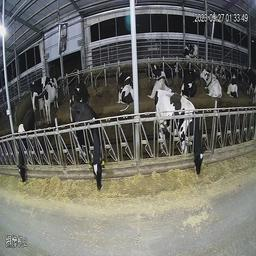cow: (155, 88, 207, 184), (70, 99, 108, 197), (14, 106, 44, 203), (142, 56, 172, 95), (115, 63, 136, 113), (201, 65, 227, 103), (42, 76, 62, 122), (30, 69, 52, 108), (70, 72, 96, 103), (180, 62, 199, 98), (225, 65, 241, 98), (180, 38, 202, 58)
